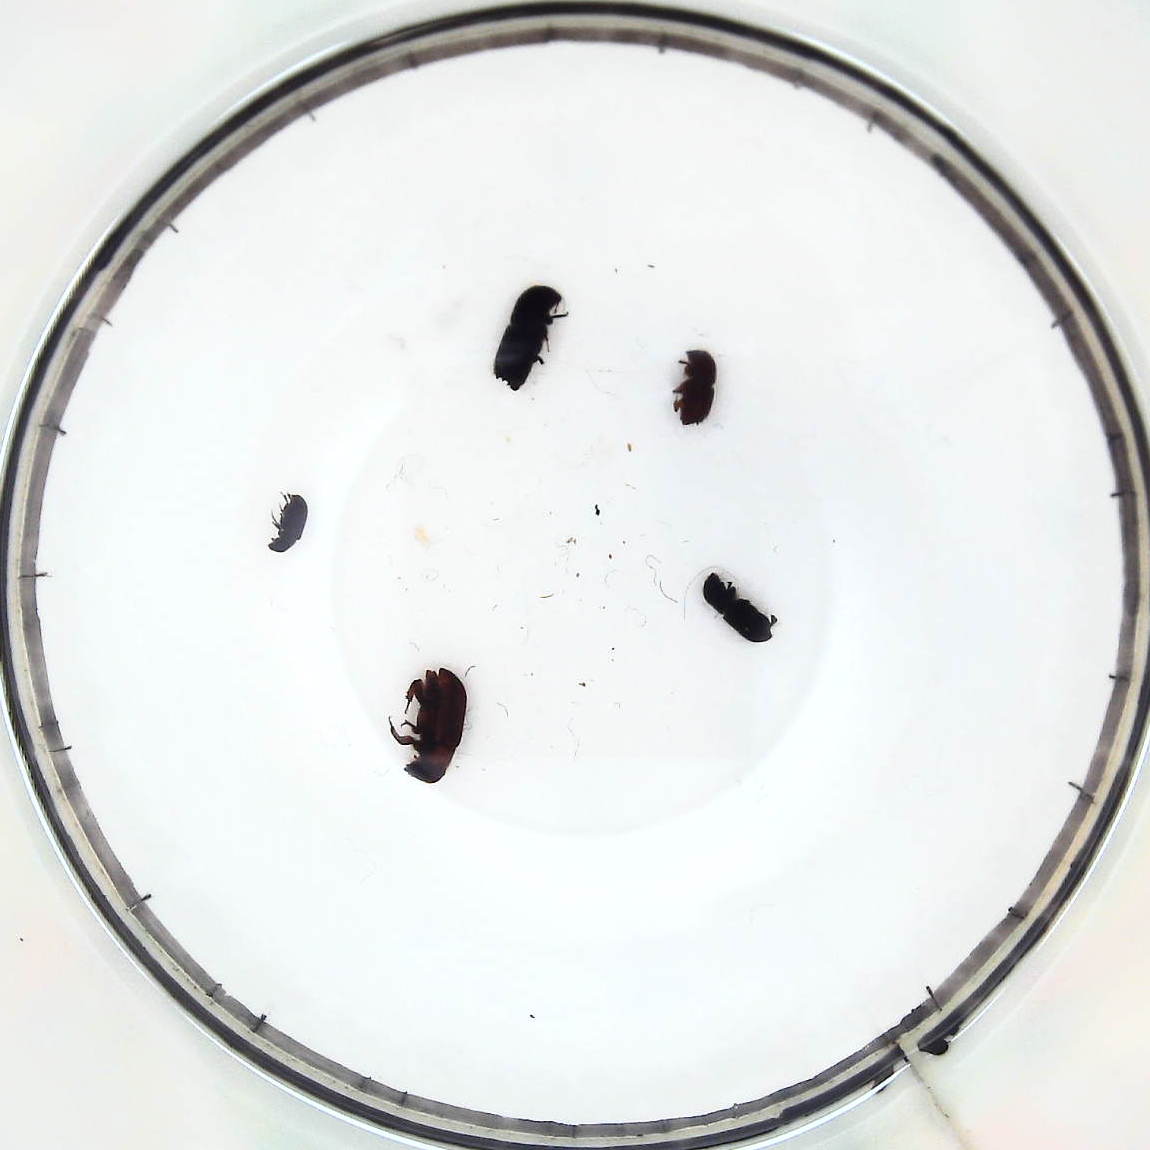Boerner: (489, 279, 561, 394)
Leconte: (394, 671, 467, 788)
Linnaeus: (671, 348, 718, 427)
armandi: (695, 569, 784, 648)
coleoptera: (270, 485, 310, 557)
